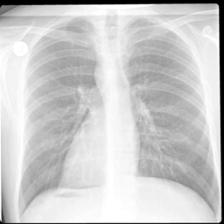tuberculosis: (13, 11, 219, 224)
